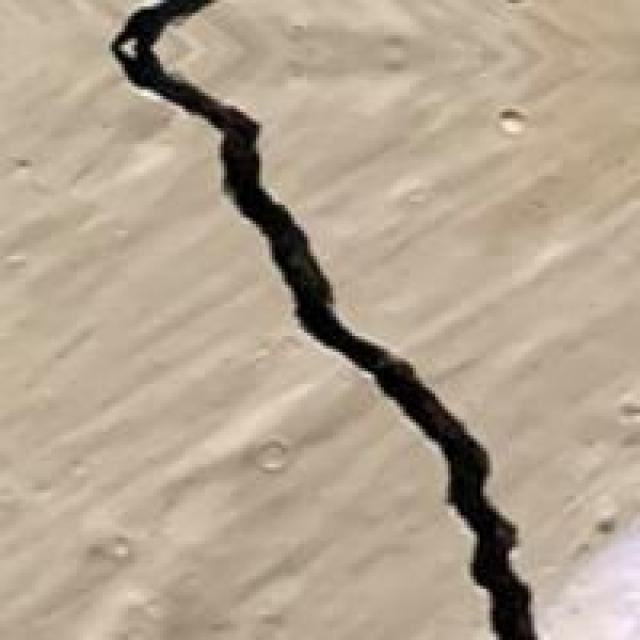Crack: (90, 0, 544, 637)
